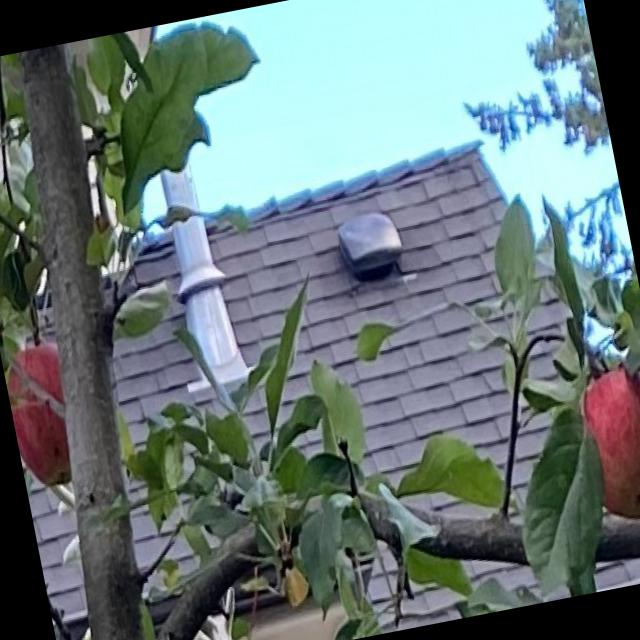Apples: (0, 340, 84, 490), (577, 363, 639, 528)
